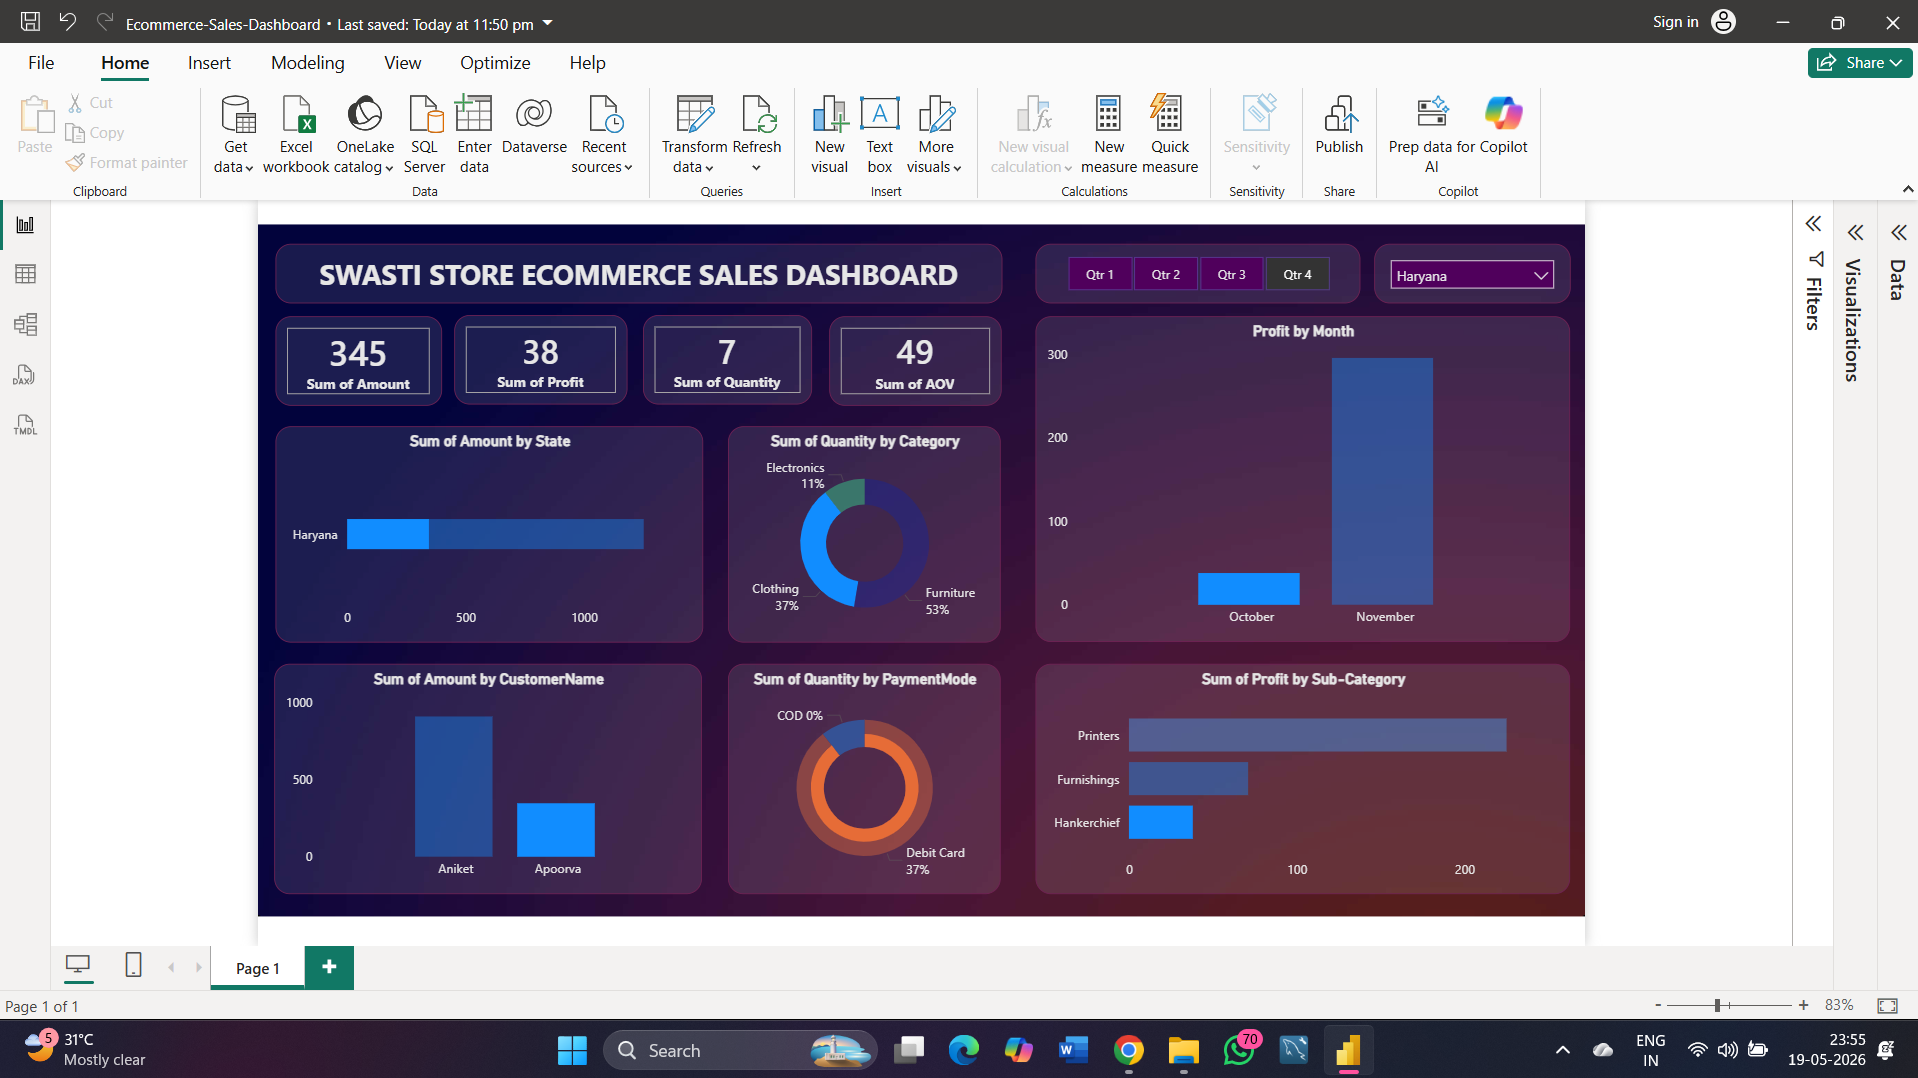

The dashboard page shown, as its layout file describes it:
{"tool":"powerbi","page":{"name":"Page 1","canvas":[1280,720],"ordinal":0},"visuals":[{"type":"columnChart","title":"Profit by Month","fields":{"Category":["Orders (1).Order Date.Variation.Date Hierarchy.Month"],"Y":["Sum(Details (1).Profit)"]},"box":[750.6,112.5,516,314.2],"z":0},{"type":"barChart","fields":{"Category":["Details (1).Sub-Category"],"Y":["Sum(Details (1).Profit)"]},"box":[750.6,447.3,516,222.3],"z":1000},{"type":"donutChart","fields":{"Category":["Details (1).Category"],"Y":["Sum(Details (1).Quantity)"]},"box":[454.2,218.2,263.5,208.6],"z":2000},{"type":"donutChart","fields":{"Y":["Sum(Details (1).Quantity)"],"Category":["Details (1).PaymentMode"]},"box":[454.2,447.3,263.5,222.3],"z":3000},{"type":"cardVisual","fields":{"Data":["Sum(Details (1).Amount)"]},"box":[16.5,112.5,160.5,86.4],"z":4000},{"type":"cardVisual","fields":{"Data":["Sum(Details (1).Quantity)"]},"box":[371.9,111.1,163.3,86.4],"z":5000},{"type":"cardVisual","fields":{"Data":["Sum(Details (1).Profit)"]},"box":[189.4,111.1,167.4,86.4],"z":6000},{"type":"cardVisual","fields":{"Data":["Sum(Details (1).AOV)"]},"box":[551.6,112.5,166,86.4],"z":7000},{"type":"barChart","fields":{"Category":["Orders (1).State"],"Y":["Sum(Details (1).Amount)"]},"box":[16.5,218.2,413,208.6],"z":8000},{"type":"columnChart","fields":{"Category":["Orders (1).CustomerName"],"Y":["Sum(Details (1).Amount)"]},"box":[16,447,413,222],"z":9000},{"type":"textbox","box":[16.5,42.5,701.2,57.6],"z":10000},{"type":"slicer","fields":{"Values":["Orders (1).Order Date.Variation.Date Hierarchy.Quarter"]},"box":[750.4,42.2,313.7,57.9],"z":11000},{"type":"slicer","fields":{"Values":["Orders (1).State"]},"box":[1077.4,42.2,189.4,57.9],"z":12000}]}

Visuals, with their boxes on the page's 1280x720 design canvas (x1, y1, x2, y2). These are canvas units, not pixel positions in the 1918x1078 screenshot, which may show the page scaled, cropped or inside an application window:
"Profit by Month" columnChart: {"x1": 751, "y1": 112, "x2": 1267, "y2": 427}
barChart - Details (1).Sub-Category x Sum(Details (1).Profit): {"x1": 751, "y1": 447, "x2": 1267, "y2": 670}
donutChart - Details (1).Category x Sum(Details (1).Quantity): {"x1": 454, "y1": 218, "x2": 718, "y2": 427}
donutChart - Sum(Details (1).Quantity) x Details (1).PaymentMode: {"x1": 454, "y1": 447, "x2": 718, "y2": 670}
cardVisual - Sum(Details (1).Amount): {"x1": 16, "y1": 112, "x2": 177, "y2": 199}
cardVisual - Sum(Details (1).Quantity): {"x1": 372, "y1": 111, "x2": 535, "y2": 198}
cardVisual - Sum(Details (1).Profit): {"x1": 189, "y1": 111, "x2": 357, "y2": 198}
cardVisual - Sum(Details (1).AOV): {"x1": 552, "y1": 112, "x2": 718, "y2": 199}
barChart - Orders (1).State x Sum(Details (1).Amount): {"x1": 16, "y1": 218, "x2": 430, "y2": 427}
columnChart - Orders (1).CustomerName x Sum(Details (1).Amount): {"x1": 16, "y1": 447, "x2": 429, "y2": 669}
textbox: {"x1": 16, "y1": 42, "x2": 718, "y2": 100}
slicer - Orders (1).Order Date.Variation.Date Hierarchy.Quarter: {"x1": 750, "y1": 42, "x2": 1064, "y2": 100}
slicer - Orders (1).State: {"x1": 1077, "y1": 42, "x2": 1267, "y2": 100}
